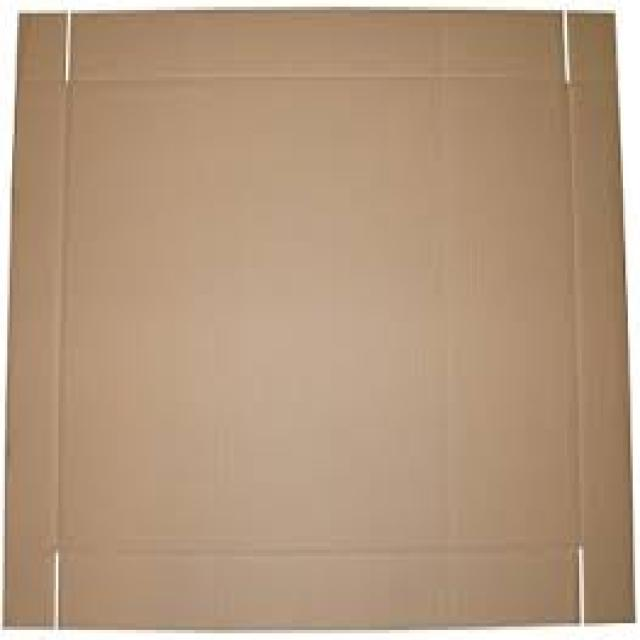cardboard: (2, 7, 633, 620)
